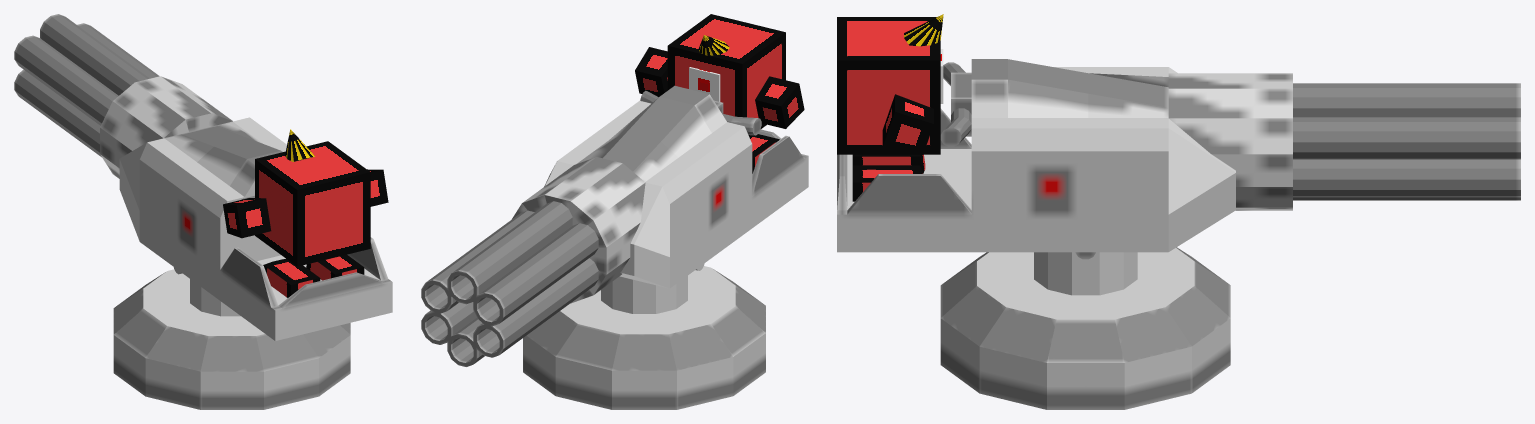
The model's file is akudo-fu+houdai-gatoringu.fbx.
3 renders of one model, left to right at view 1: azimuth 30°, elevation 25°; view 2: azimuth 150°, elevation 25°; view 3: azimuth 270°, elevation 25°, orthographic. The views are drawn at different scales.
Visible parts, largest first — view 1: cuboid_6, cylinder, cuboid, cylinder_11, cylinder_9, cylinder_8, cylinder_10, cuboid_4, cuboid_2, cuboid_1, cylinder_1, cylinder_7 (+2 smaller); view 2: cuboid_6, cylinder, cylinder_11, cuboid, cylinder_9, cylinder_8, cylinder_10, cylinder_1, cuboid_4, cylinder_7, cylinder_6, cuboid_3 (+5 smaller); view 3: cuboid_6, cylinder, cylinder_11, cuboid, cylinder_7, cylinder_6, cylinder_8, cylinder_1, cuboid_3, cylinder_4, cuboid_1, cylinder_2 (+3 smaller).
Part boxes in pixels (x1,y1,x2,y2): cuboid_6: [119, 117, 392, 340]; cylinder: [113, 269, 350, 409]; cuboid: [255, 141, 370, 266]; cylinder_11: [100, 76, 232, 178]; cylinder_9: [14, 35, 118, 125]; cylinder_8: [40, 14, 149, 95]; cylinder_10: [14, 69, 101, 157]; cuboid_4: [223, 198, 271, 238]; cuboid_2: [263, 259, 320, 297]; cuboid_1: [306, 254, 364, 280]; cylinder_1: [190, 279, 240, 316]; cylinder_7: [77, 23, 159, 78]; cuboid_6: [544, 85, 808, 288]; cylinder: [523, 266, 765, 409]; cylinder_11: [512, 157, 645, 303]; cuboid: [667, 14, 785, 137]; cylinder_9: [473, 223, 598, 326]; cylinder_8: [447, 201, 572, 304]; cylinder_10: [473, 258, 598, 357]; cylinder_1: [601, 275, 687, 313]; cuboid_4: [755, 76, 804, 128]; cylinder_7: [421, 210, 534, 313]; cylinder_6: [421, 302, 476, 344]; cuboid_3: [635, 47, 667, 96]; cuboid_6: [837, 59, 1235, 252]; cylinder: [940, 247, 1230, 409]; cylinder_11: [1168, 73, 1292, 210]; cuboid: [837, 17, 940, 154]; cylinder_7: [1293, 117, 1520, 159]; cylinder_6: [1293, 159, 1520, 197]; cylinder_8: [1293, 83, 1520, 117]; cylinder_1: [1034, 252, 1137, 295]; cuboid_3: [882, 94, 933, 155]; cylinder_4: [940, 62, 971, 146]; cuboid_1: [852, 165, 922, 201]; cylinder_2: [1293, 197, 1520, 200].
Bounding box in the file's own units: 175 × 223 × 412.
